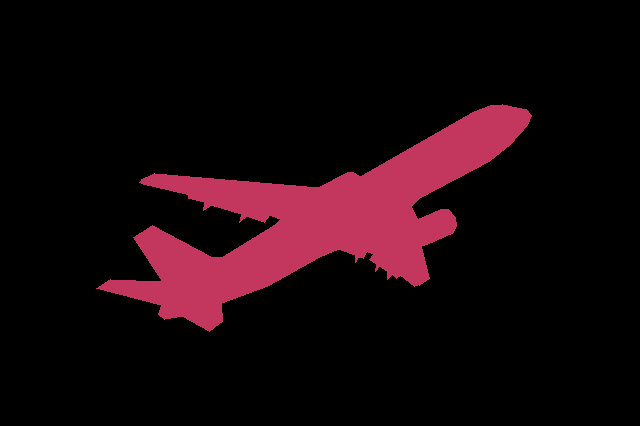Airplane: (96, 104, 531, 331)
